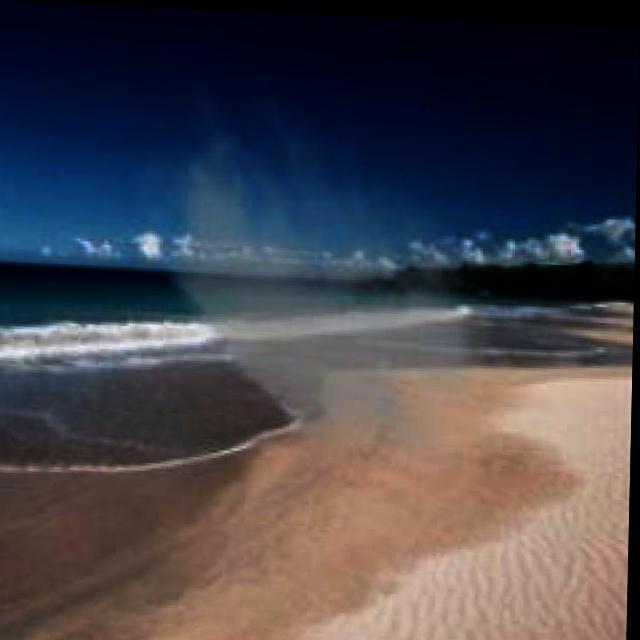Smoke: (150, 70, 538, 518)
